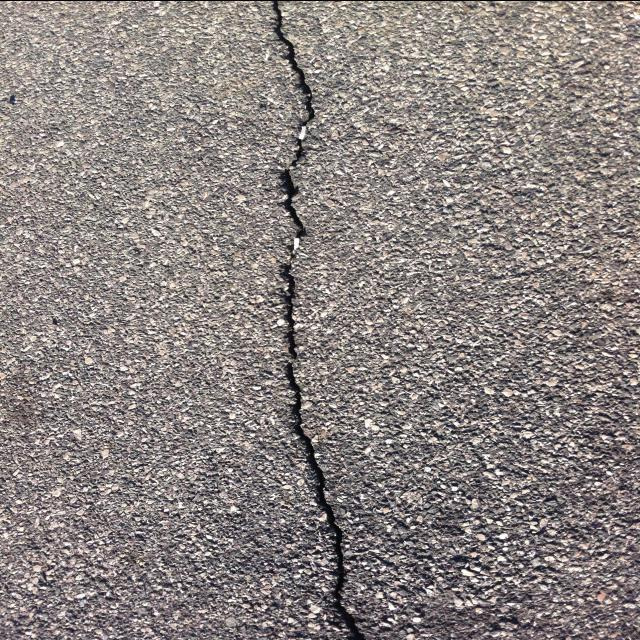Crack: (268, 0, 375, 640)
